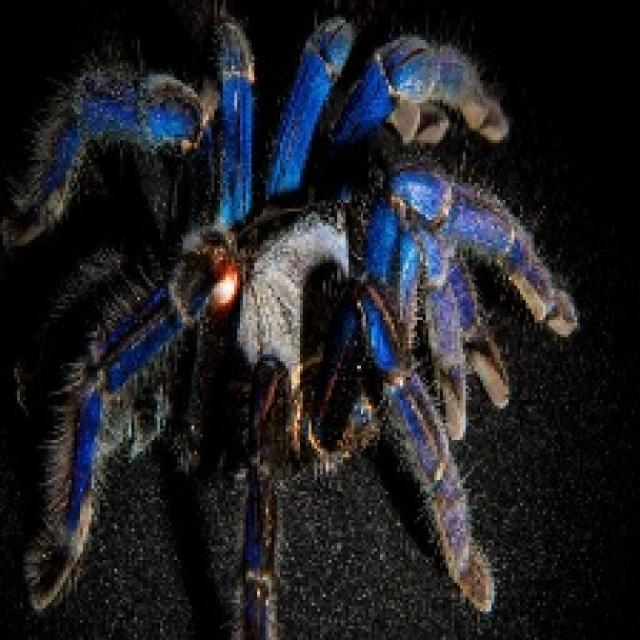Venomous spider: (21, 39, 592, 561)
